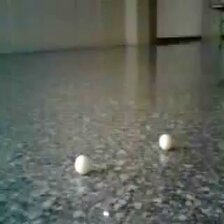w: (74, 154, 91, 174), (158, 133, 174, 150)
